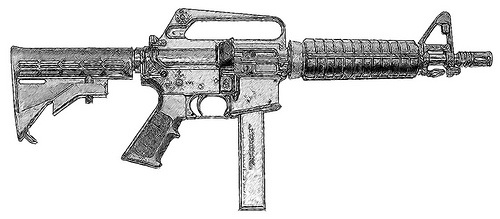rifle: (5, 14, 494, 174)
